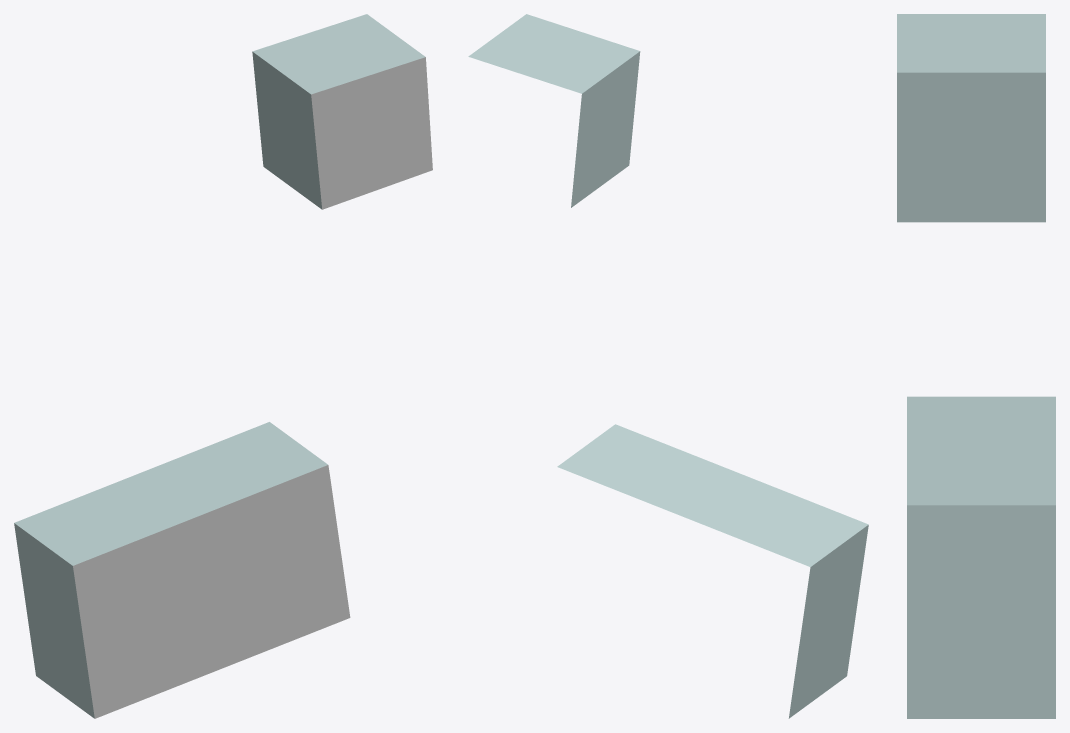
3 renders of one model, left to right at view 1: azimuth 30°, elevation 25°; view 2: azimuth 150°, elevation 25°; view 3: azimuth 270°, elevation 25°, orthographic. The views are drawn at different scales.
Visible parts, largest first — view 1: 0_1_2_1_3_1_0_3_0; view 2: 0_1_2_1_3_1_0_3_0; view 3: 0_1_2_1_3_1_0_3_0.
Boxes of the visible parts, x1,y1,x2,y2 form: 0_1_2_1_3_1_0_3_0: [14, 14, 432, 718]; 0_1_2_1_3_1_0_3_0: [468, 14, 868, 718]; 0_1_2_1_3_1_0_3_0: [897, 14, 1055, 718].
Size of the model in its own units: 10.48 by 16.45 by 3.2.
